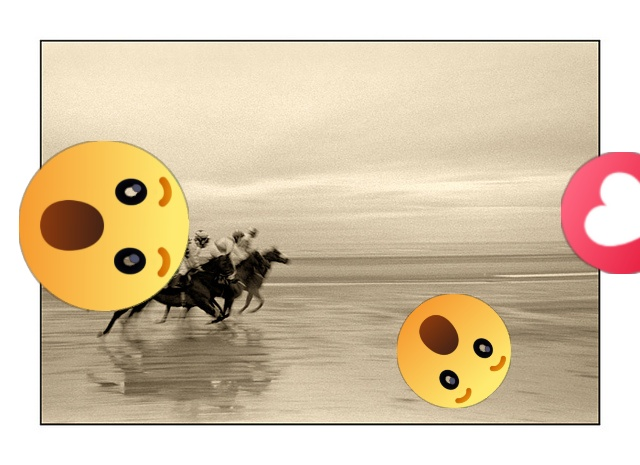love: (561, 152, 640, 274)
wow: (19, 141, 189, 311), (397, 294, 511, 408)
